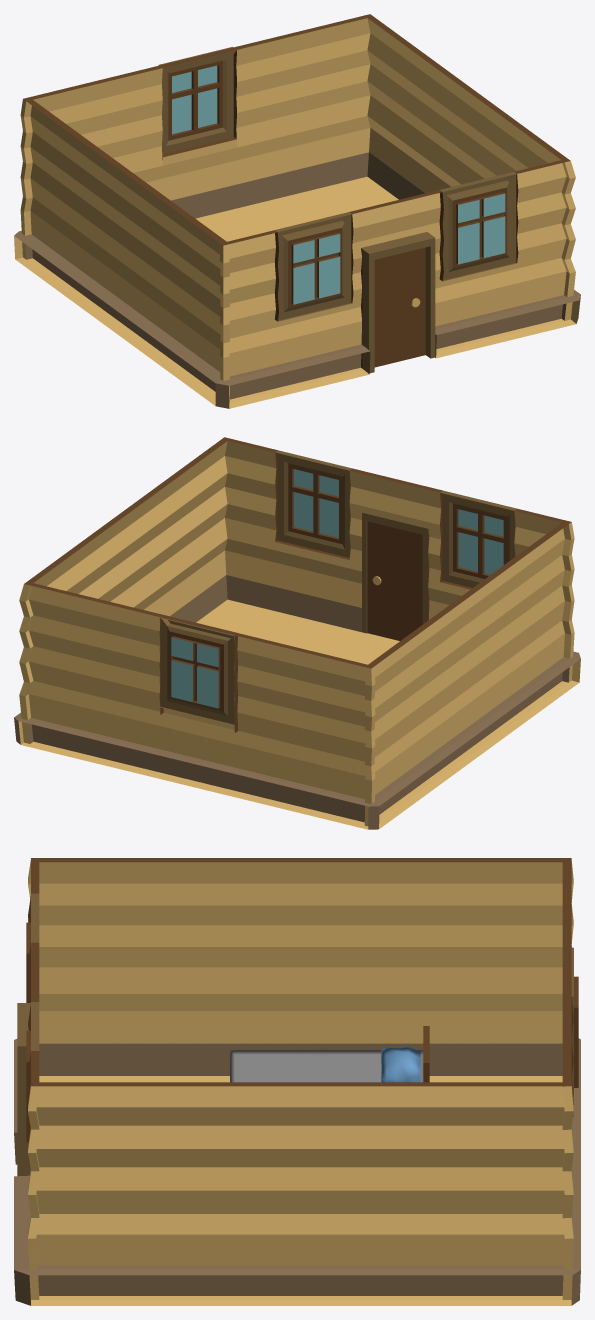
The model's file is ИнтерьерДома.fbx.
3 views of the same model, one above another, from view 1: azimuth 30°, elevation 25°; view 2: azimuth 150°, elevation 25°; view 3: azimuth 270°, elevation 25° (orthographic). The views are drawn at different scales.
Parts seen in each view (by area): view 1: Дом внутри, Дверь; view 2: Дом внутри, Дверь; view 3: Дом внутри, Кровать.
Boxes of the visible parts, box(x1,y1,x2,y2) form: Дом внутри: box(14, 14, 580, 408); Дверь: box(374, 247, 425, 367); Дом внутри: box(14, 437, 580, 829); Дверь: box(367, 521, 422, 640); Дом внутри: box(14, 858, 580, 1305); Кровать: box(230, 1026, 429, 1082).
Size of the model in its own units: 7595 by 3206 by 7575.
